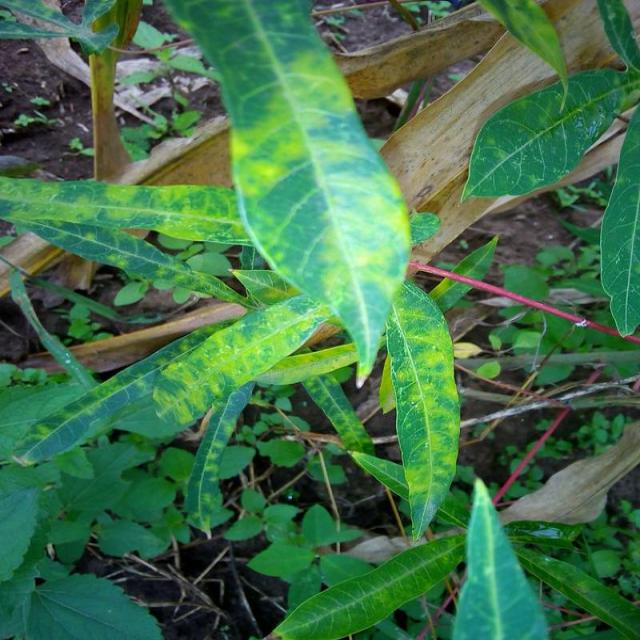cassava leaf: (164, 0, 415, 388), (460, 65, 630, 204), (383, 276, 462, 541), (452, 476, 551, 638), (600, 103, 640, 338)
